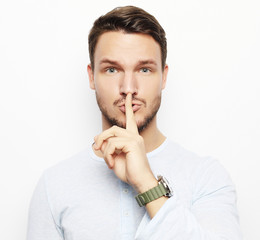young: (82, 8, 169, 130)
